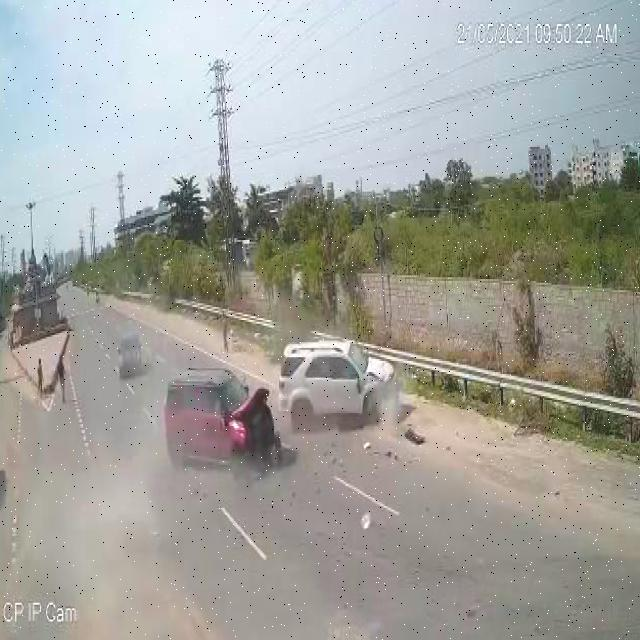accident: (152, 314, 431, 495)
